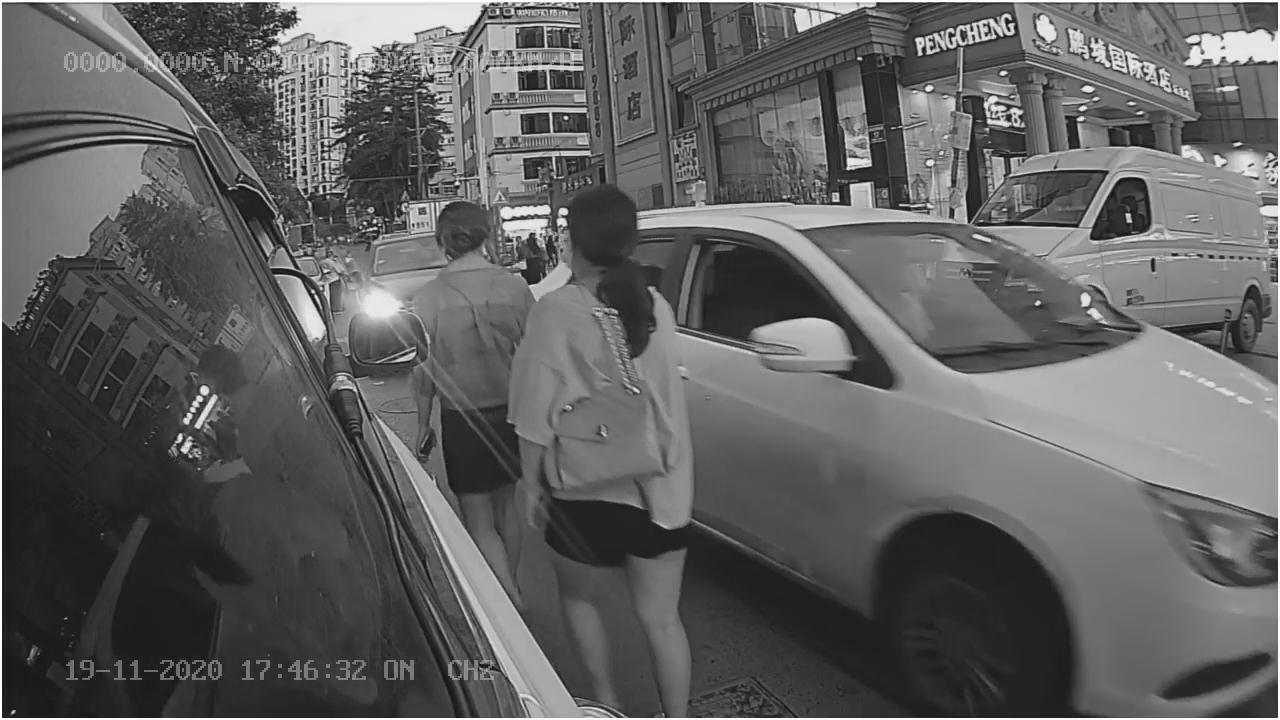person: (500, 183, 696, 621)
